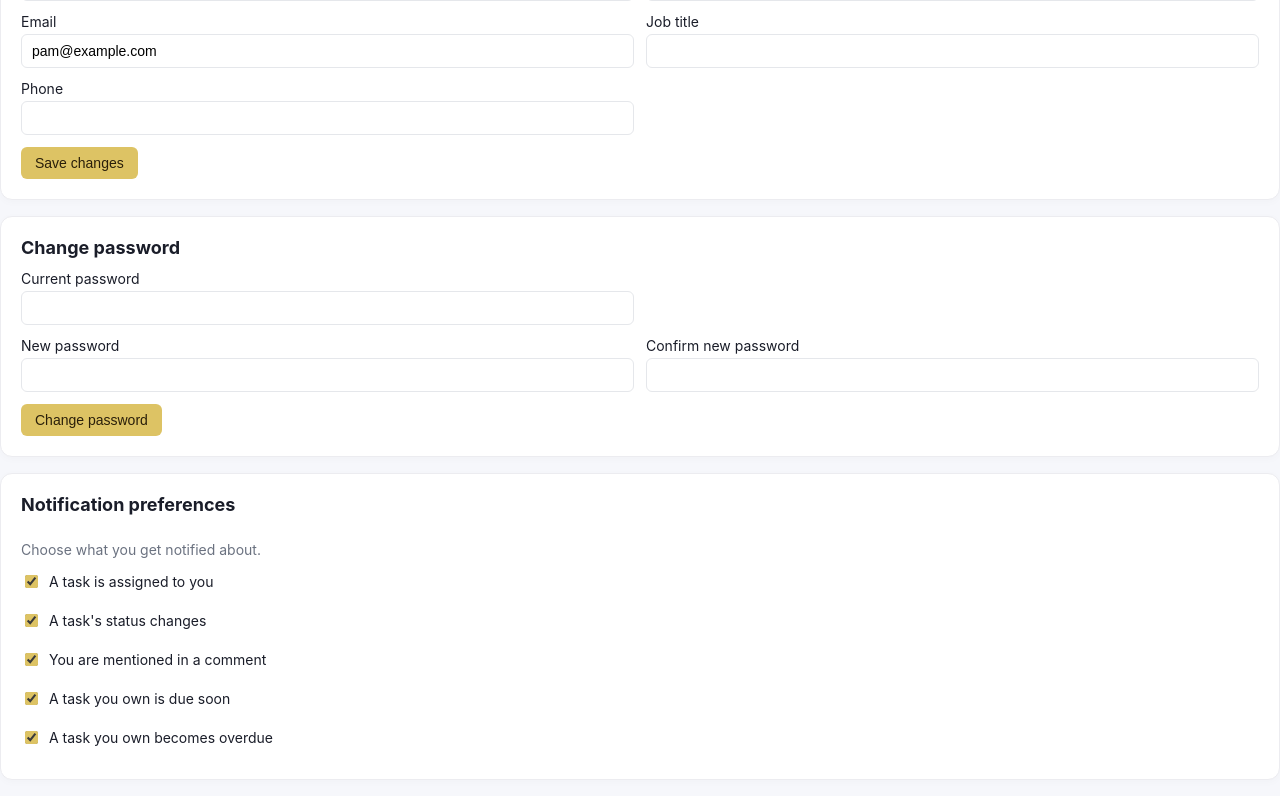
Scenario: Profile page › reverts the toggle and shows an error if saving the preference fails
The image size is (1280, 796).
(page scrolled)
Click the checkbox labelled "A task you own is due soon" at (32, 698), box x1=25 y1=692 x2=38 y2=705
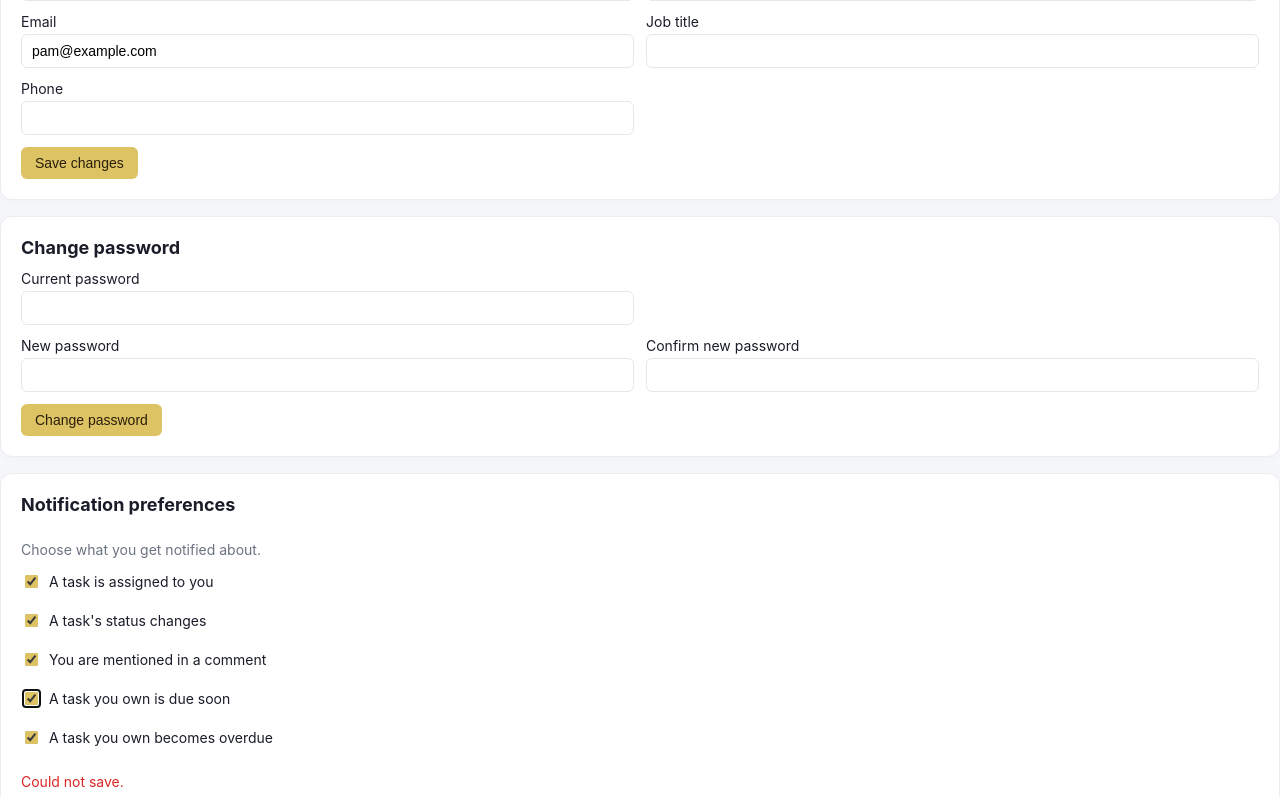
Check: the text "Could not save." is shown, box x1=21 y1=773 x2=124 y2=790
